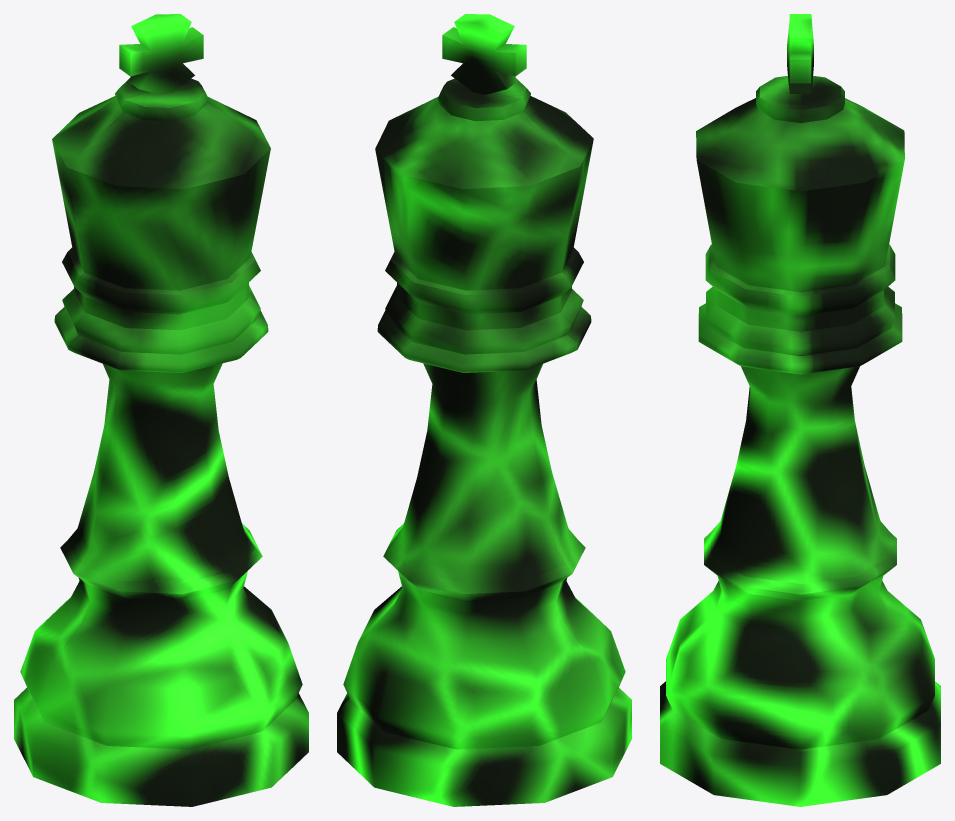
The model's file is item-5-8.glb.
3 views of the same model, side by side, from view 1: azimuth 30°, elevation 25°; view 2: azimuth 150°, elevation 25°; view 3: azimuth 270°, elevation 25° (orthographic).
Parts seen in each view (by area): view 1: BlackKing; view 2: BlackKing; view 3: BlackKing.
Part boxes in pixels (box(x1,y1,x2,y2)): BlackKing: box(14, 14, 308, 806); BlackKing: box(337, 14, 631, 806); BlackKing: box(660, 14, 940, 806).
Bounding box in the file's own units: 0.0886 × 0.2399 × 0.0843.
Materials: 1 (1 with a texture image).
